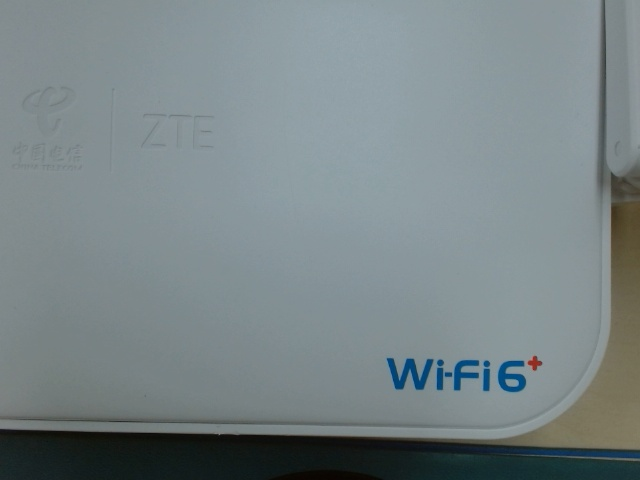AJ_ZTEWIFI6Plus: (378, 346, 548, 399)
